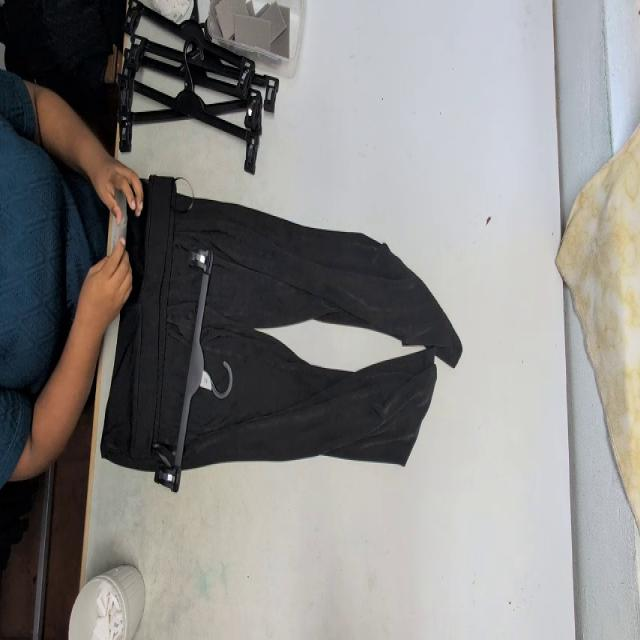new-garment: (101, 176, 462, 491)
